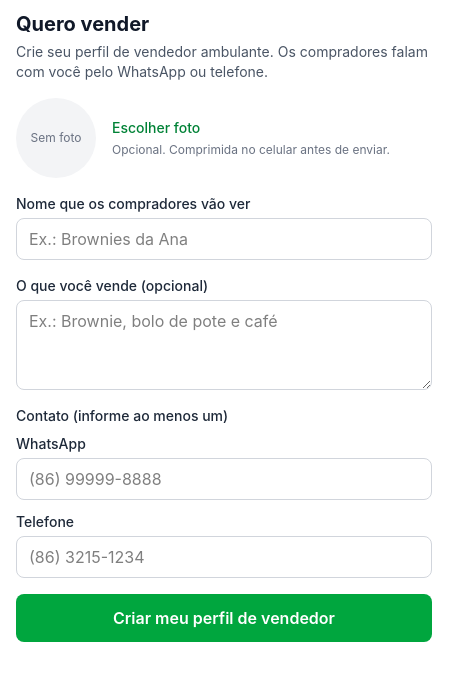
Test case: QueroVenderPage › mostra o erro de telefone sem DDD (RN21)
Type "Ana" into the field labelled "Nome que os compradores vão ver" at x=224, y=239, box [16,218,432,260]
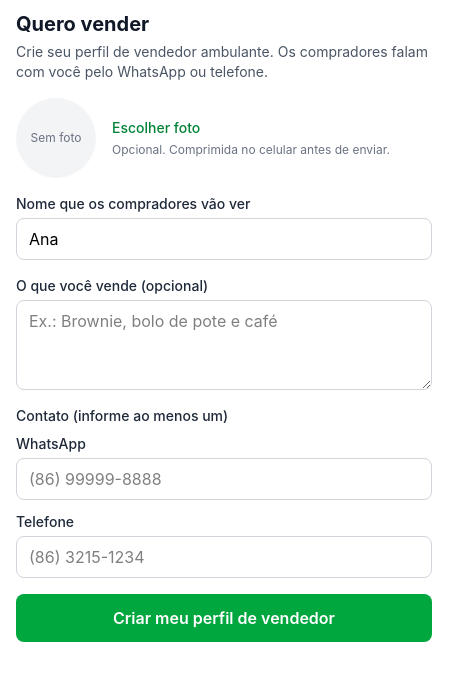
Type "99999-8888" into the field labelled "WhatsApp" at x=224, y=479, box [16,458,432,500]
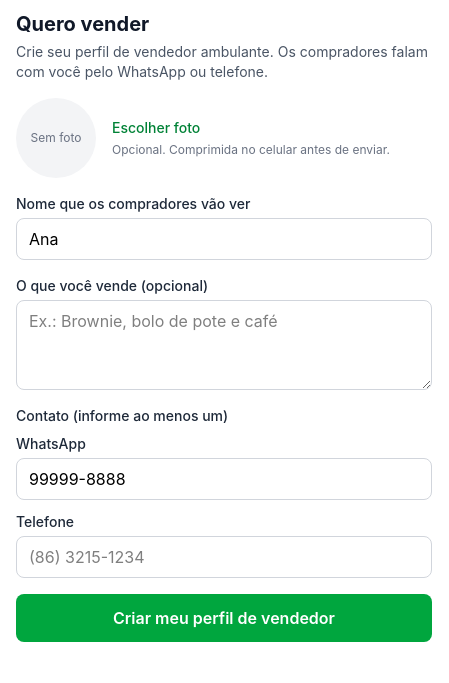
Click the button "Criar meu perfil de vendedor" at x=224, y=618, box [16,594,432,642]
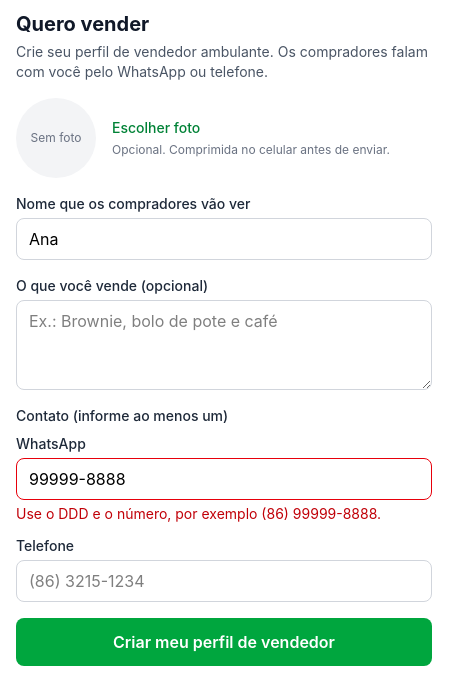
Check: the text "Use o DDD e o número, por exemplo (86) 99999-8888." is shown, box [16,504,432,524]
